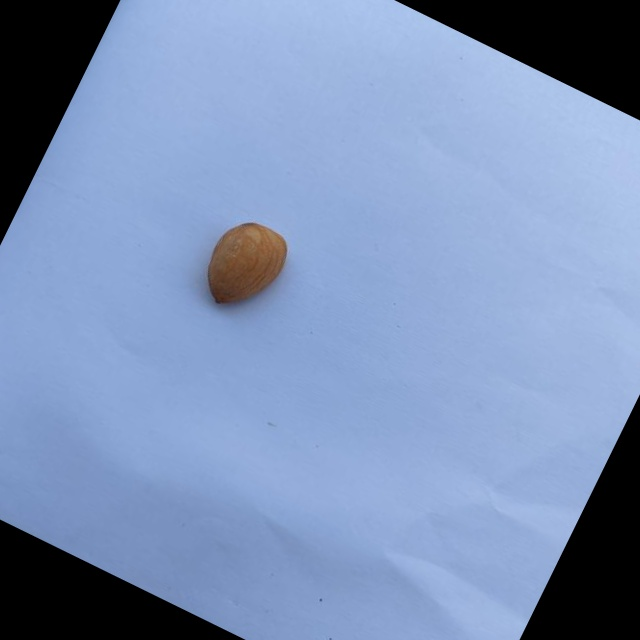grade2: (189, 206, 303, 328)
